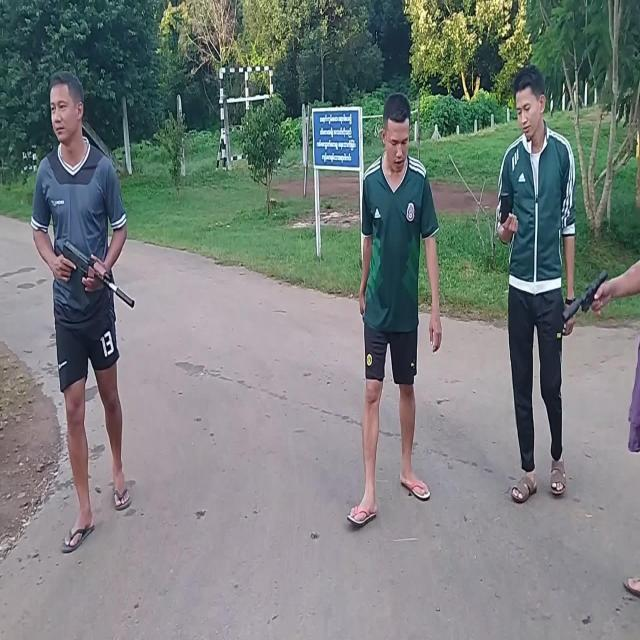gun: (62, 240, 134, 310)
